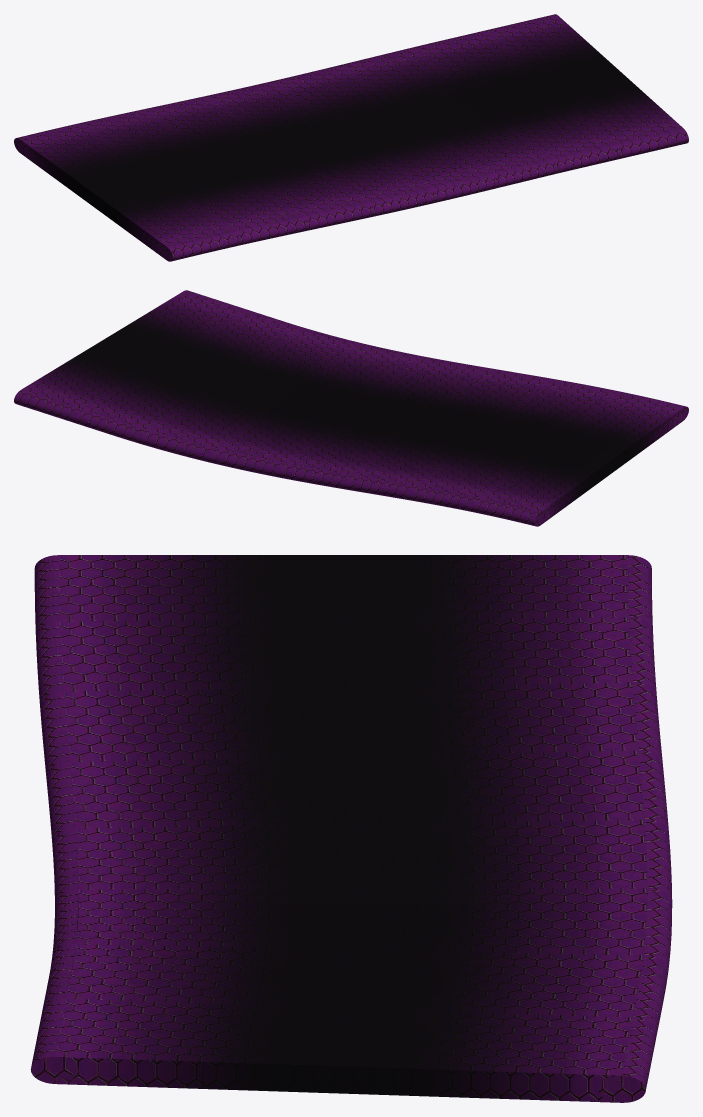
Rendered from level-02-track-07a.glb.
3 renders of one model, top to bottom at view 1: azimuth 30°, elevation 25°; view 2: azimuth 150°, elevation 25°; view 3: azimuth 270°, elevation 25°, orthographic. The views are drawn at different scales.
Parts seen in each view (by area): view 1: track-07a; view 2: track-07a; view 3: track-07a.
Part boxes in pixels (x1,y1,x2,y2): track-07a: (14,14,688,261); track-07a: (14,290,688,526); track-07a: (30,555,672,1102).
Bounding box in the file's own units: 16.32 × 0.7265 × 8.68.
Materials: 2 (2 with a texture image).
